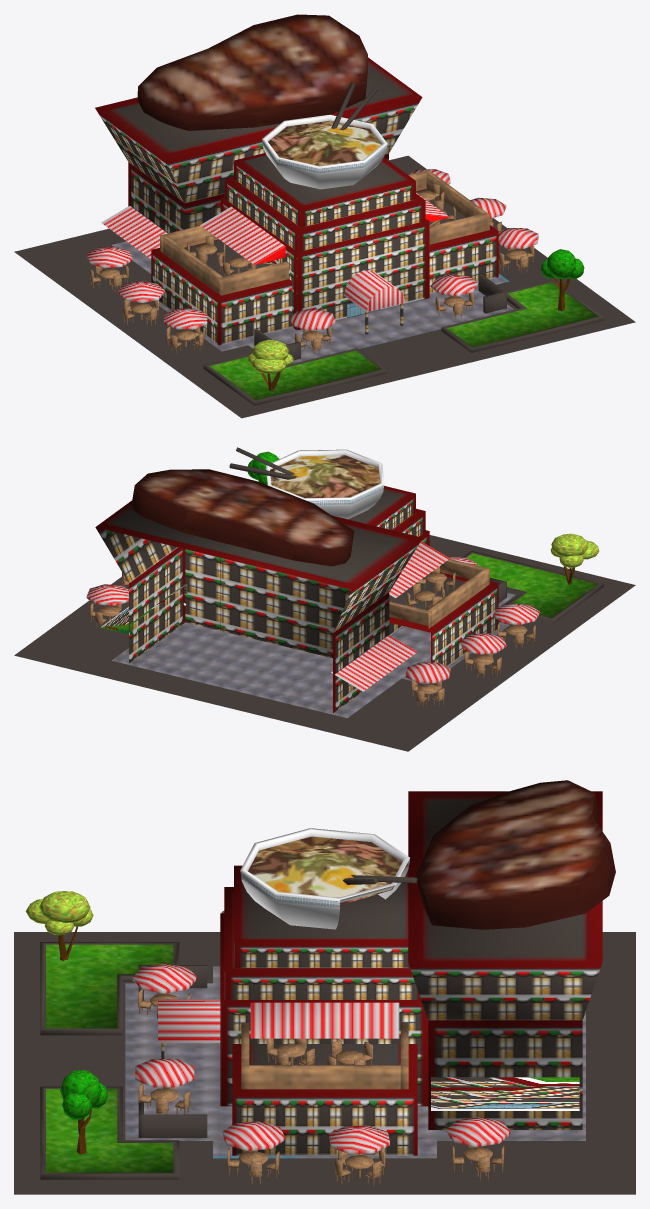
File: restaurant_LV3.fbx
The picture shows the model from 3 angles, top to bottom: view 1: azimuth 30°, elevation 25°; view 2: azimuth 150°, elevation 25°; view 3: azimuth 270°, elevation 25°; orthographic projection. The views are drawn at different scales.
Visible parts, largest first — view 1: restaurant level 3; view 2: restaurant level 3; view 3: restaurant level 3.
Part boxes in pixels (x1=…): restaurant level 3: x1=14, y1=14, x2=635, y2=418; restaurant level 3: x1=14, y1=447, x2=635, y2=751; restaurant level 3: x1=14, y1=780, x2=635, y2=1194.
Size of the model in its own units: 100 by 43.53 by 100.
